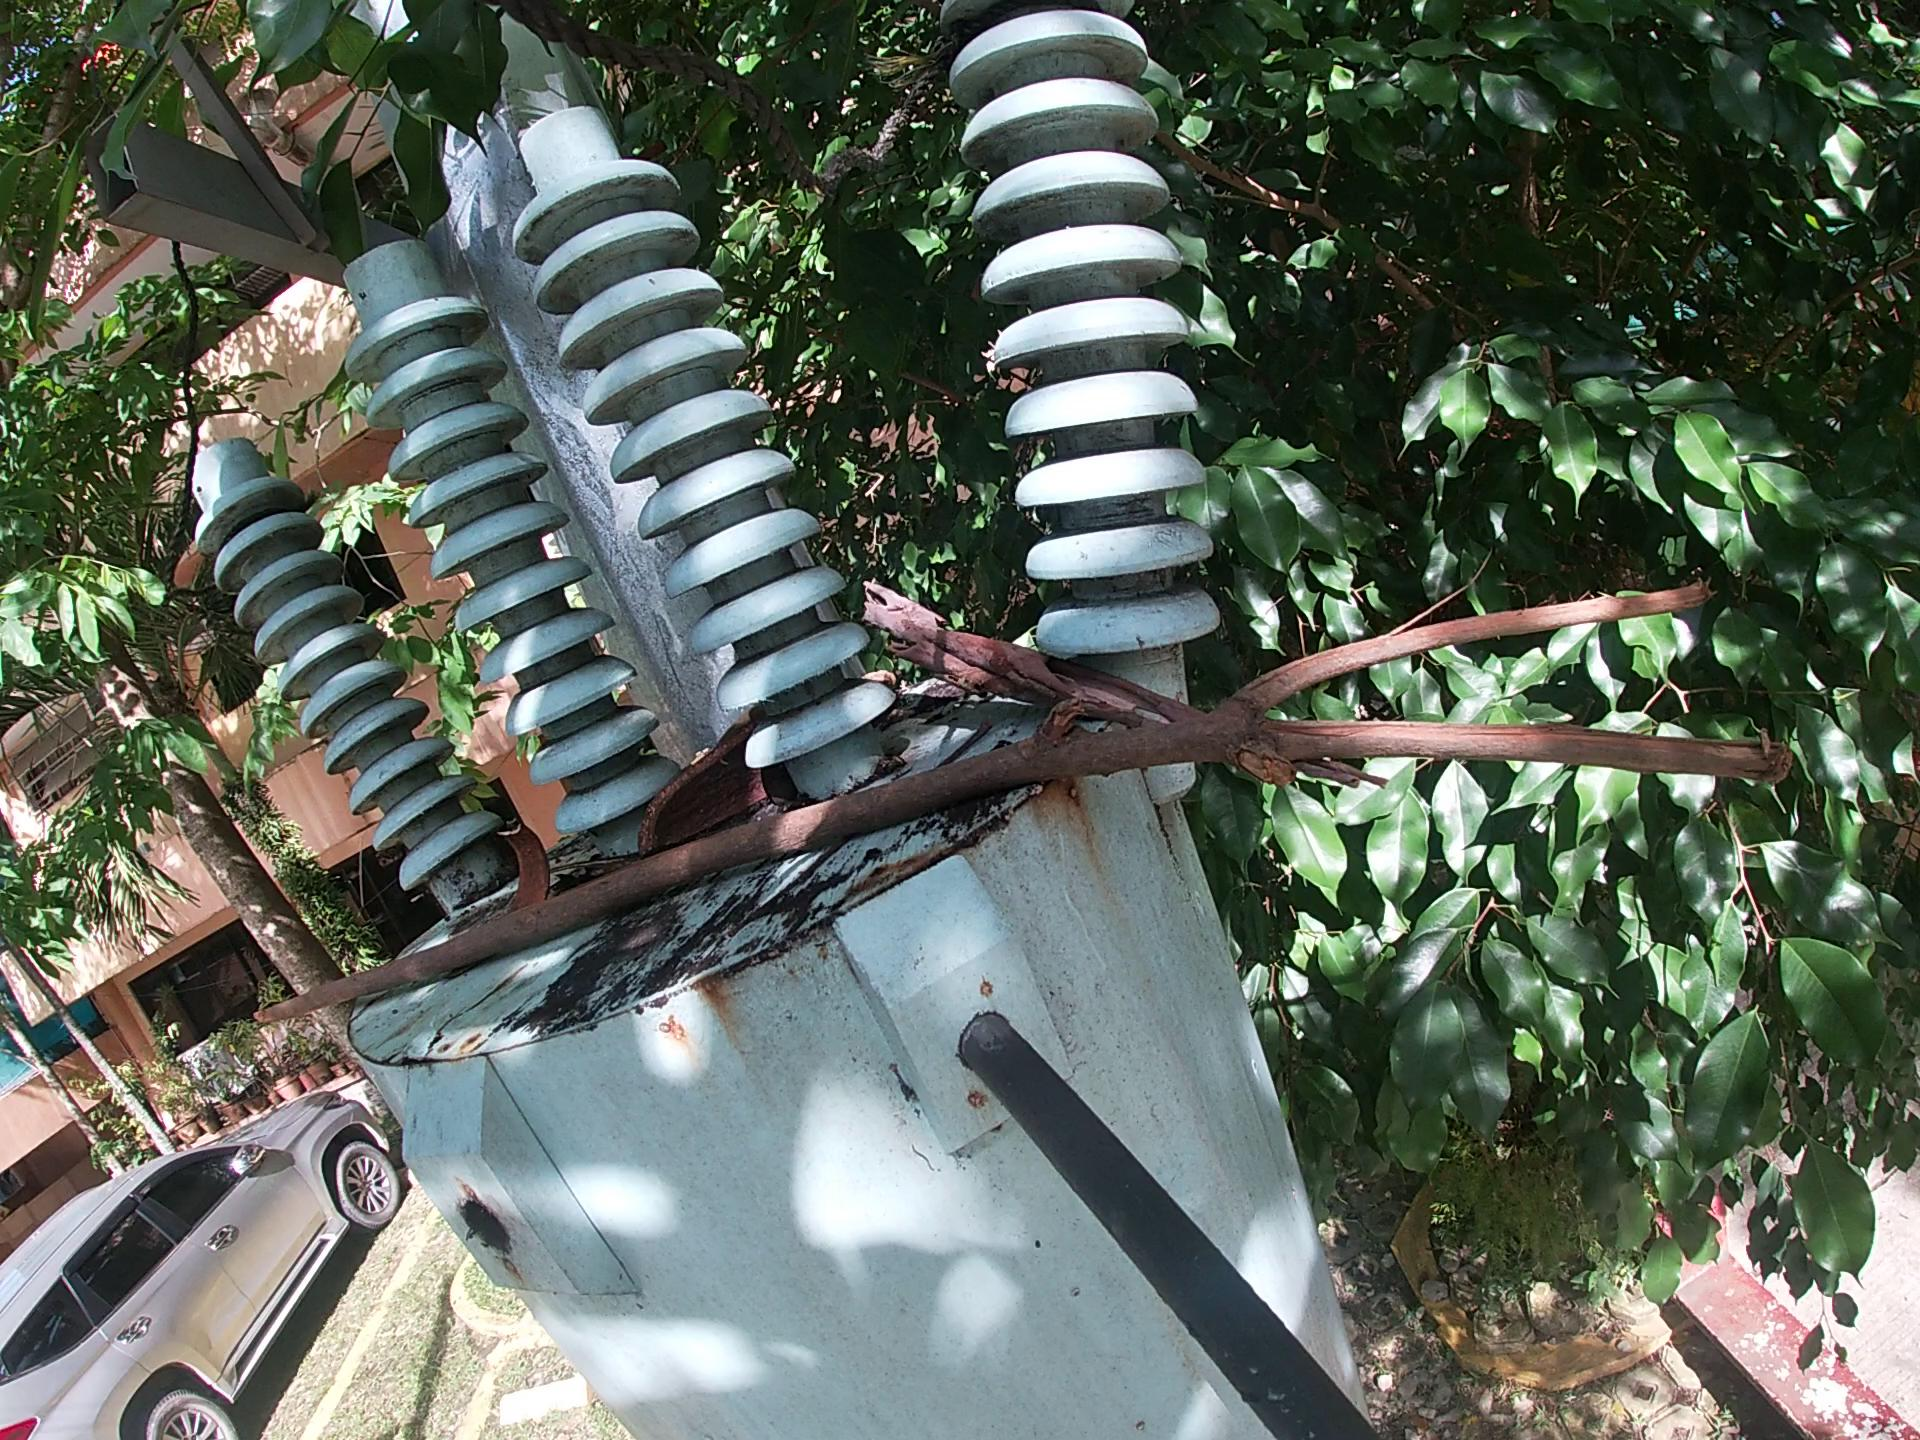mahogany fruit: (638, 729, 773, 852), (503, 812, 561, 900)
tree branch: (243, 569, 1772, 1047), (711, 717, 1002, 942), (859, 584, 1222, 731), (869, 661, 919, 687)
